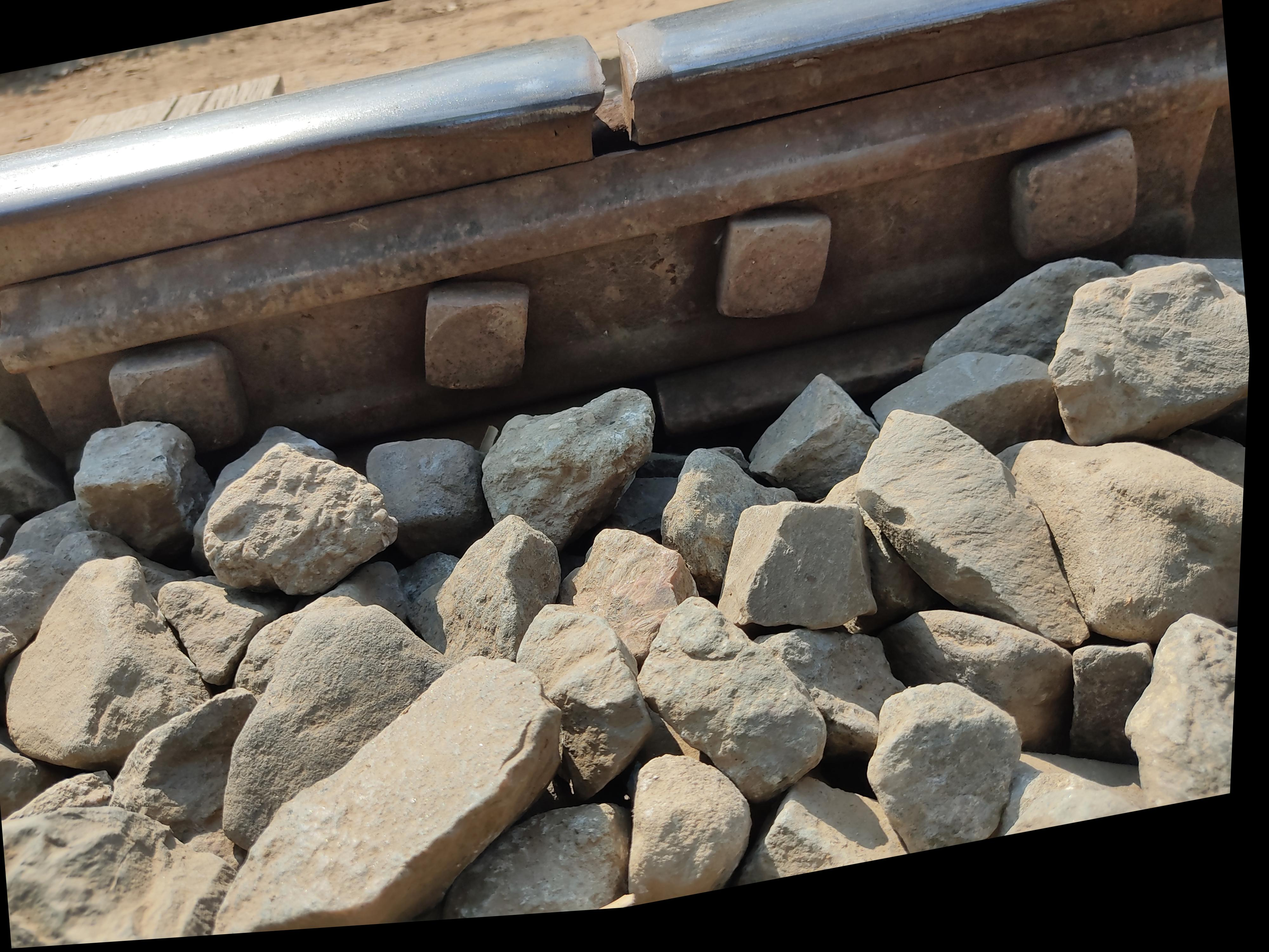person: (464, 82, 647, 270)
